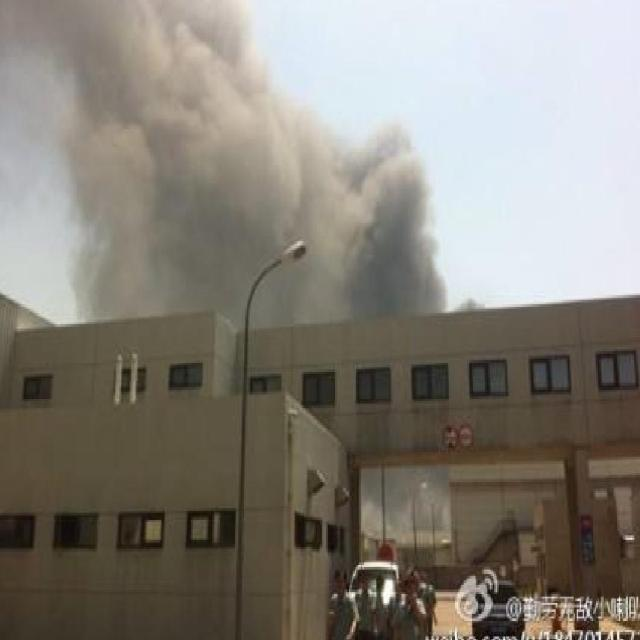Smoke: (1, 1, 484, 328)
